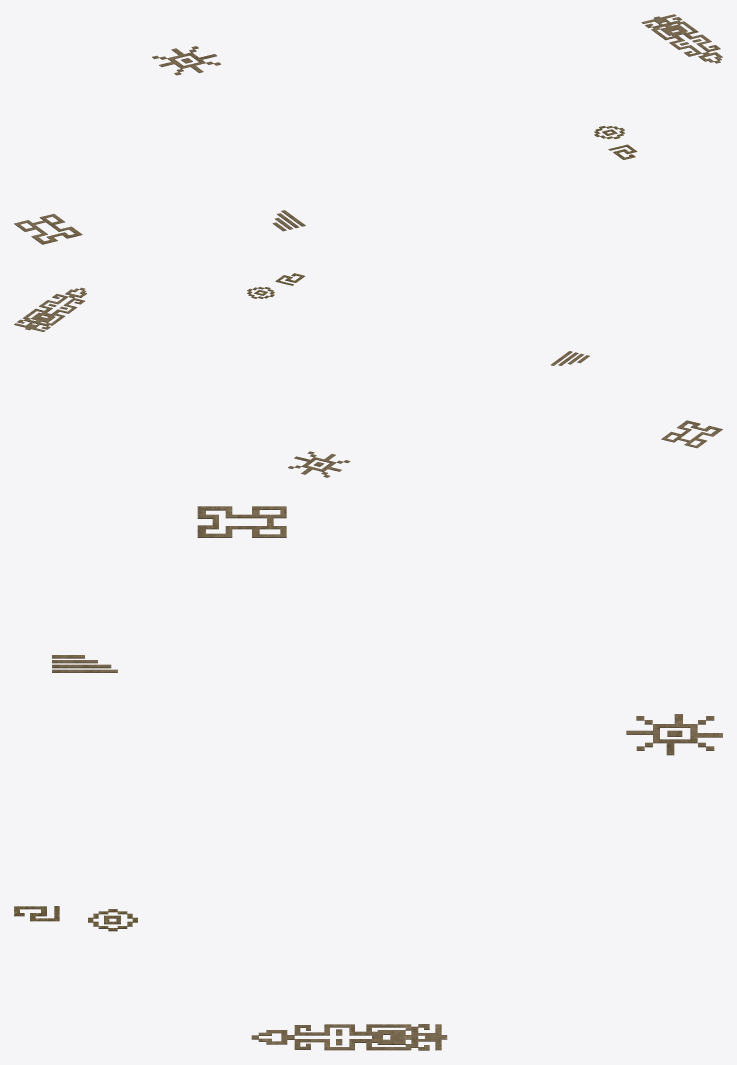
Rendered from dizhuan.fbx.
The picture shows the model from 3 angles, top to bottom: view 1: azimuth 30°, elevation 25°; view 2: azimuth 150°, elevation 25°; view 3: azimuth 270°, elevation 25°; orthographic projection. The views are drawn at different scales.
Parts seen in each view (by area): view 1: dizhuan04, dizhuan05, dizhuan01, dizhuan03; view 2: dizhuan04, dizhuan05, dizhuan01, dizhuan03; view 3: dizhuan04, dizhuan05, dizhuan01, dizhuan03, dizhuan02.
Boxes of the visible parts, x1,y1,x2,y2 form: dizhuan04: [641, 14, 722, 63]; dizhuan05: [14, 214, 82, 244]; dizhuan01: [152, 46, 221, 75]; dizhuan03: [594, 126, 637, 159]; dizhuan04: [14, 287, 86, 331]; dizhuan05: [661, 420, 722, 448]; dizhuan01: [288, 451, 350, 477]; dizhuan03: [247, 273, 304, 298]; dizhuan04: [251, 1024, 447, 1050]; dizhuan05: [197, 506, 286, 537]; dizhuan01: [626, 714, 722, 755]; dizhuan03: [14, 906, 137, 931]; dizhuan02: [52, 655, 117, 672].
Bounding box in the file's own units: 65694 × 45.08 × 36207.
